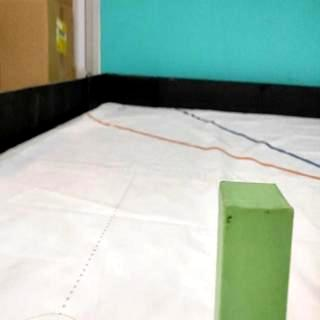greenbox: (212, 179, 294, 320)
